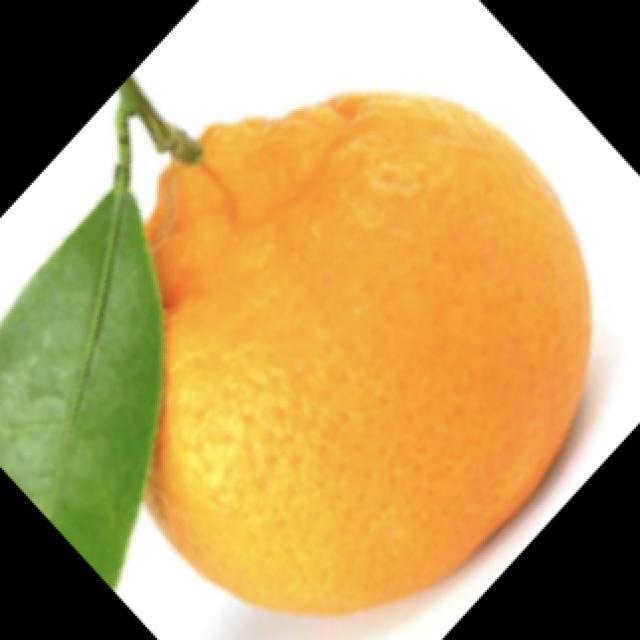Orange: (141, 87, 592, 617)
